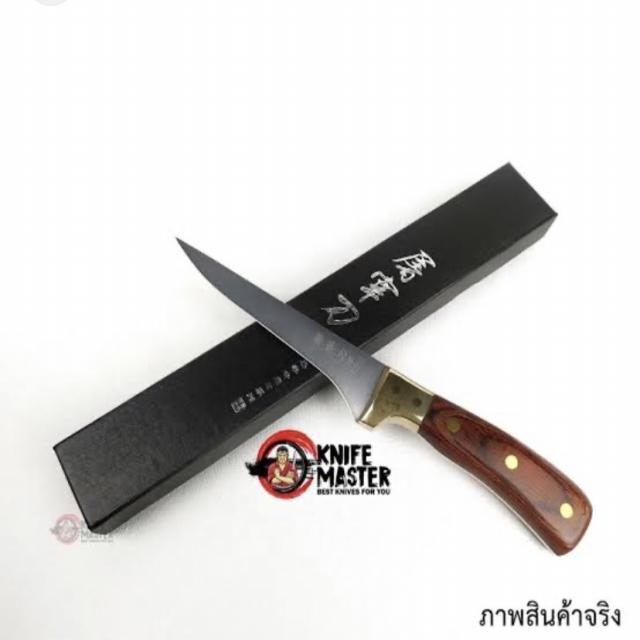Knife: (163, 221, 596, 564)
